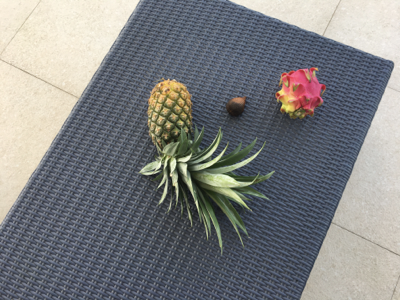dragon fruit: (278, 68, 325, 120)
pineapple: (139, 80, 275, 253)
snake fruit: (226, 96, 248, 116)
